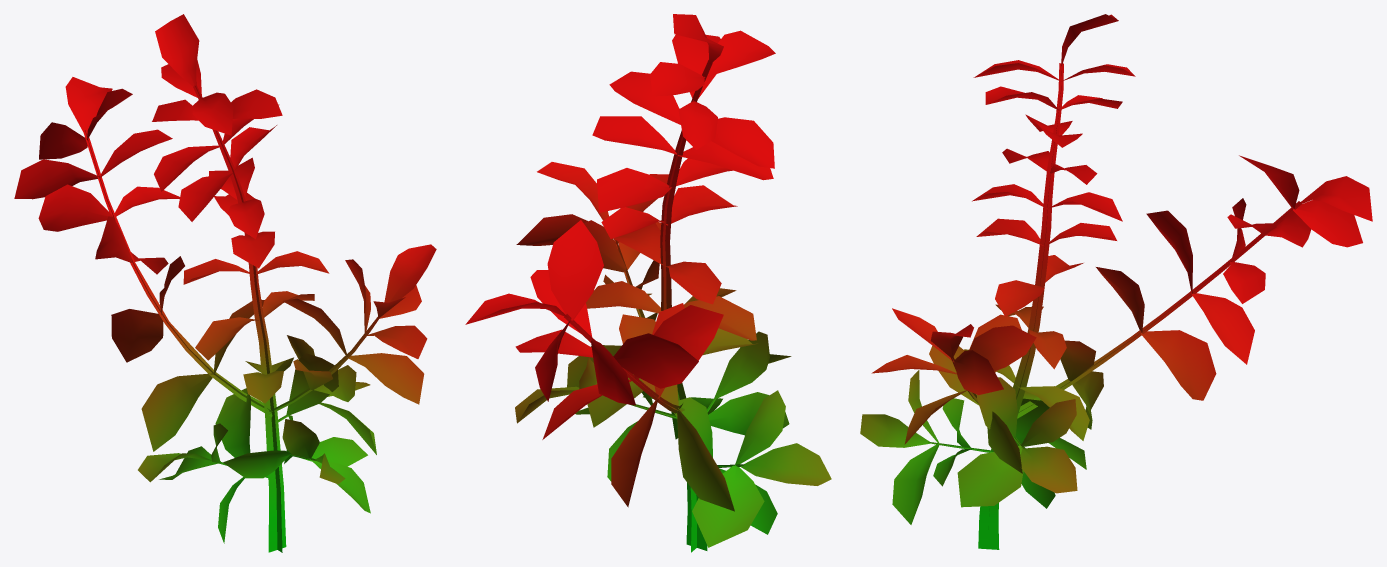
File: European Spindle_LOD2_Var5.fbx
The picture shows the model from 3 angles, left to right: view 1: azimuth 30°, elevation 25°; view 2: azimuth 150°, elevation 25°; view 3: azimuth 270°, elevation 25°; orthographic projection. The views are drawn at different scales.
Visible parts, largest first — view 1: _4giq_Var5_LOD2; view 2: _4giq_Var5_LOD2; view 3: _4giq_Var5_LOD2.
Boxes of the visible parts, box(x1,y1,x2,y2) form: _4giq_Var5_LOD2: box(14, 14, 436, 552); _4giq_Var5_LOD2: box(465, 14, 831, 552); _4giq_Var5_LOD2: box(860, 14, 1372, 549).
Size of the model in its own units: 33.63 by 60.72 by 54.49.
